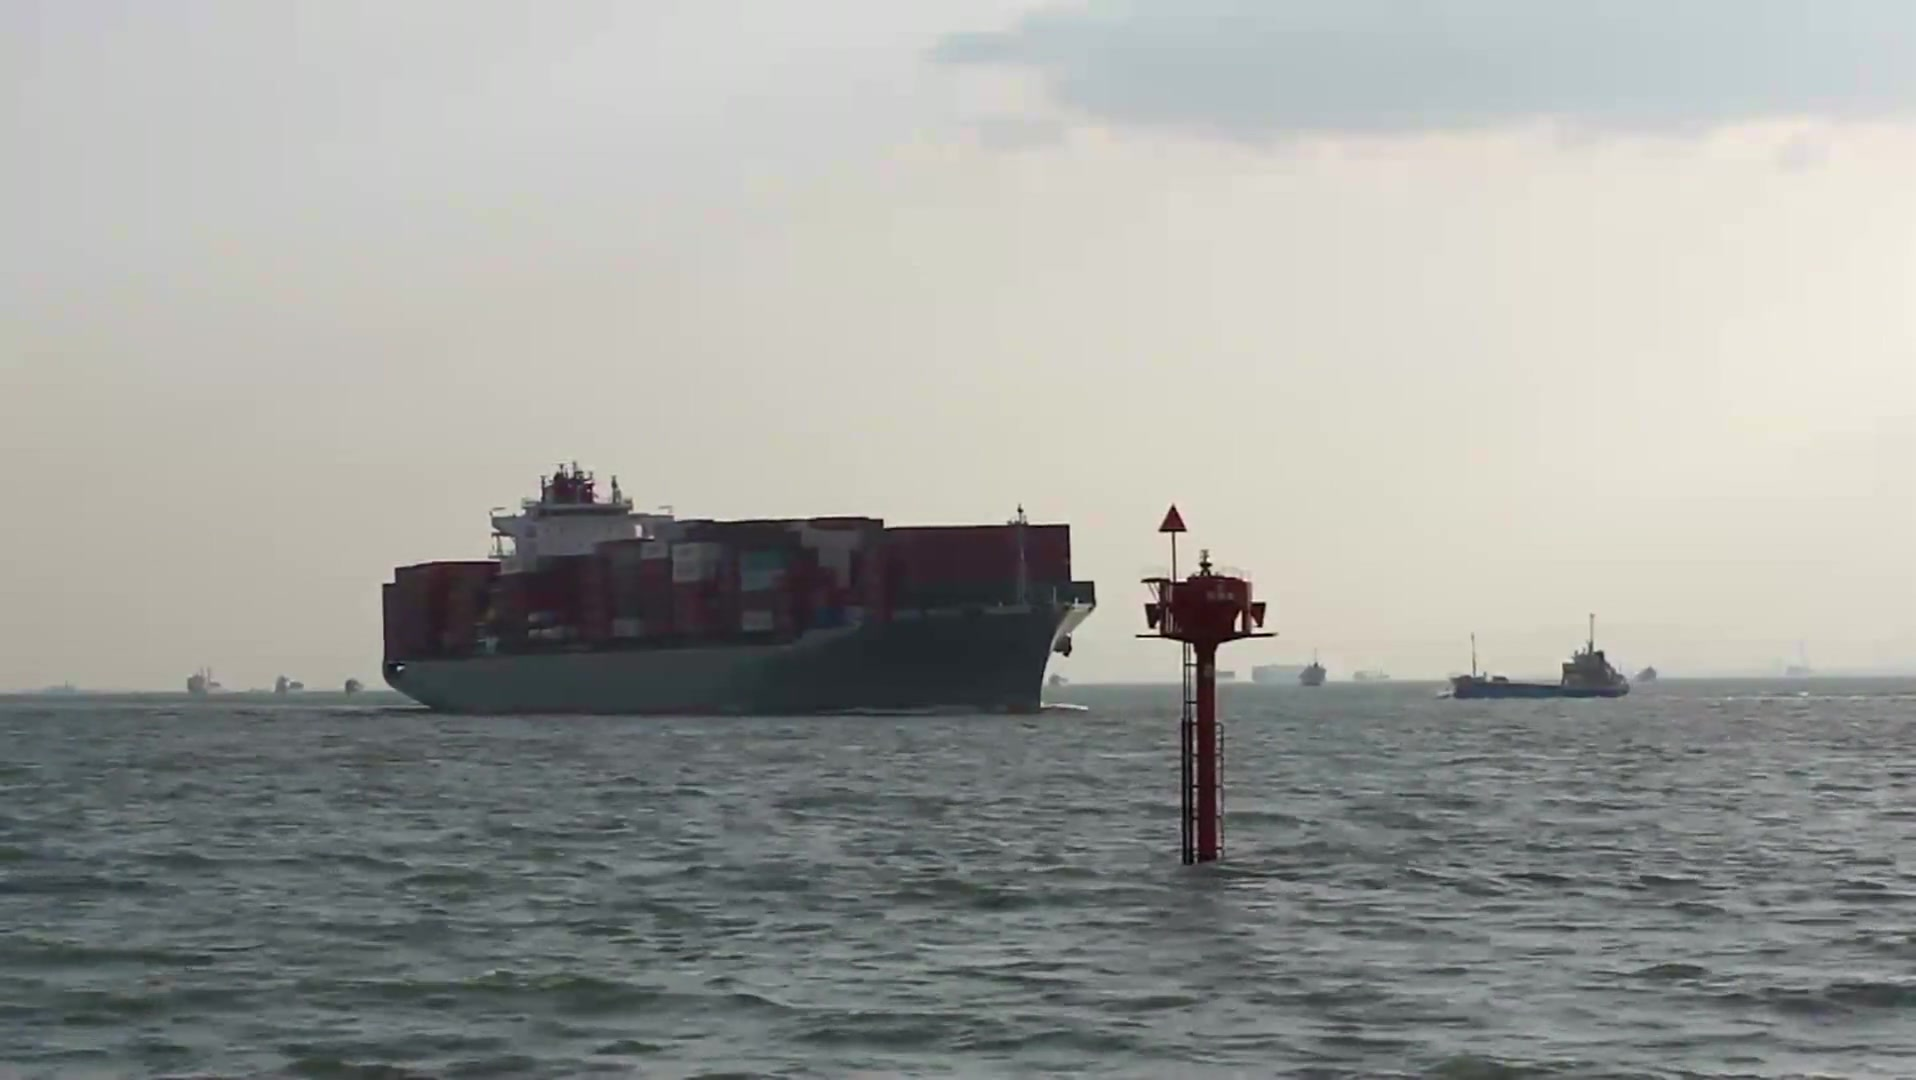boat: (365, 464, 1096, 724), (1446, 606, 1634, 708), (1246, 649, 1337, 699), (263, 676, 326, 710), (182, 667, 230, 706), (330, 674, 374, 701)
